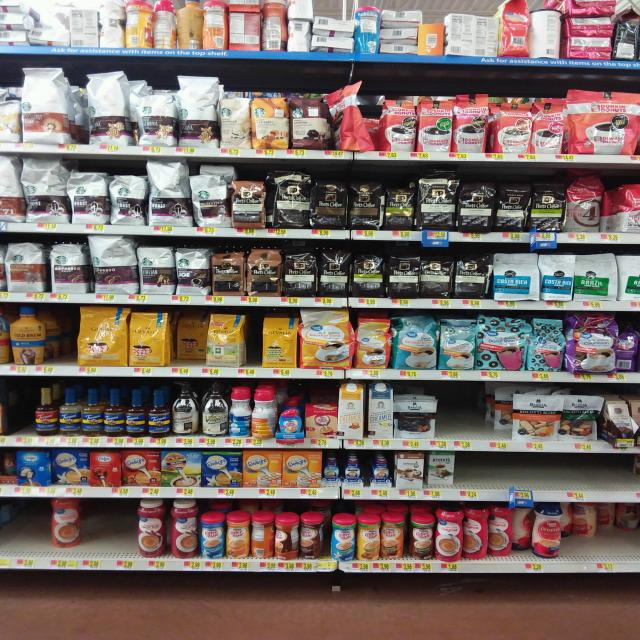void: (86, 500, 134, 575), (1, 498, 42, 574), (441, 383, 483, 448), (593, 458, 634, 507), (562, 455, 594, 508), (493, 454, 522, 507), (534, 451, 560, 503), (460, 454, 486, 503)
